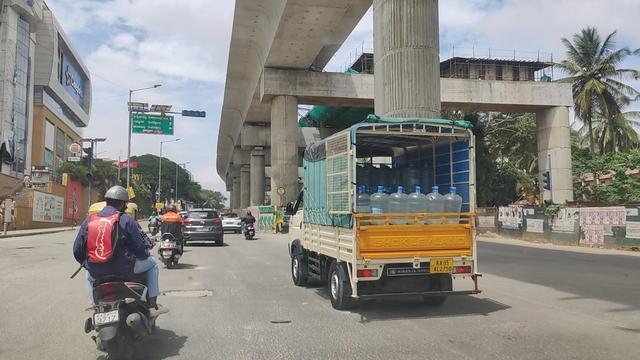HMV: (287, 110, 480, 319)
LMV: (72, 181, 148, 360), (156, 205, 184, 273)
RoadDamages: (162, 284, 218, 300)
